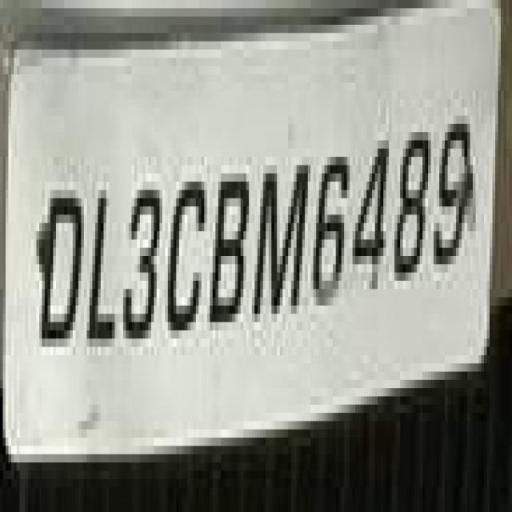number plate: (0, 16, 493, 471)
